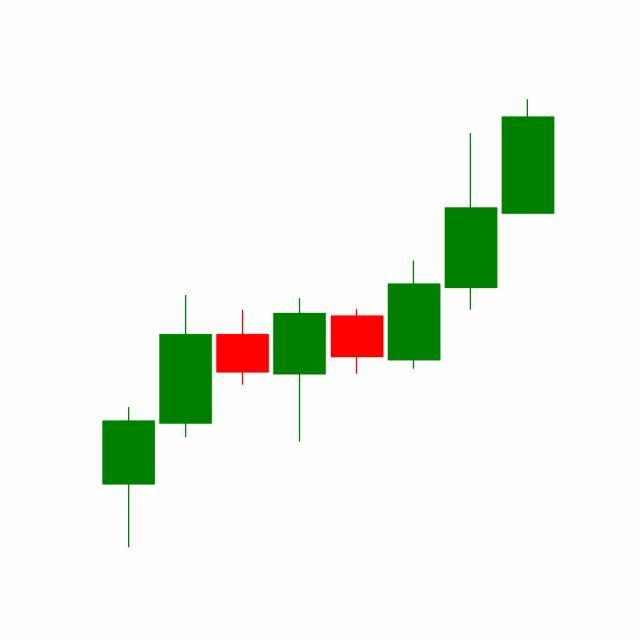Three Outside Up-Down: (328, 131, 500, 378)
